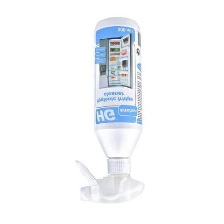cleaning_solution: (73, 10, 148, 206)
